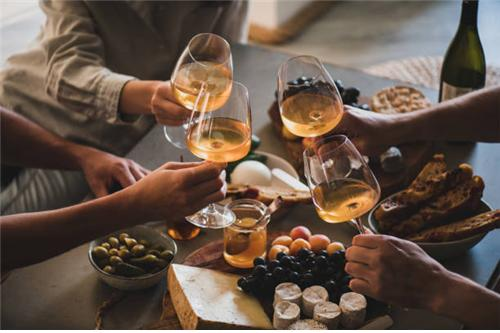alcohol: (300, 136, 383, 240), (161, 32, 230, 151), (184, 79, 236, 226), (276, 53, 349, 137)
